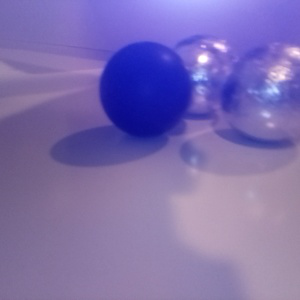alive_ball: (221, 42, 300, 143), (164, 35, 240, 114)
dead_ball: (98, 39, 191, 136)
